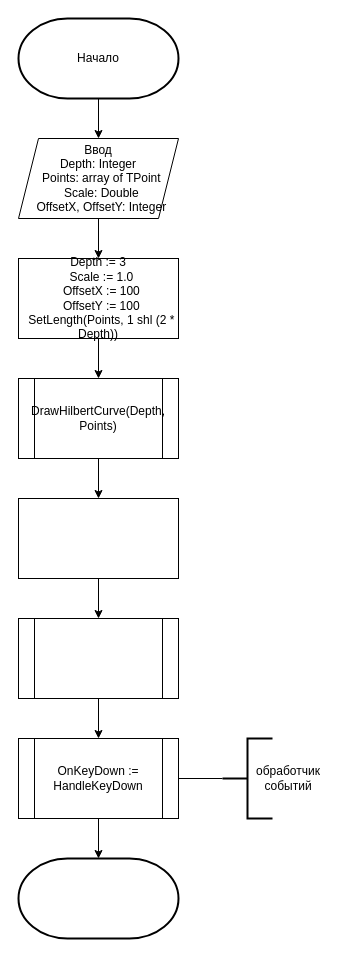
The diagram is 337 pixels wide and 956 high, and some of its shapes have lost their labels. The shapes that lost their labels are listed below. From the top down, each one's centre as x and y in pixels, then its label:
At point (98, 538): "Window.Title := 'Кривая Гильберта' Window.SetSize(800, 800)".
At point (98, 658): "DrawCurve".
At point (98, 898): "Конец".
